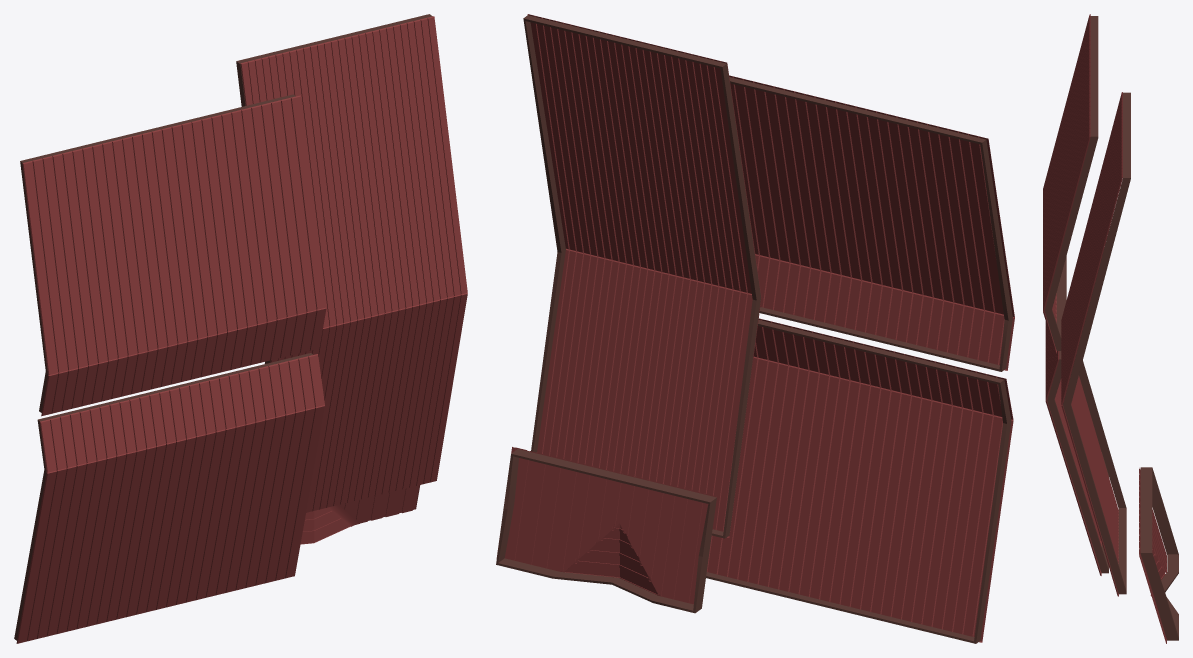
Rendered from roof.glb.
The picture shows the model from 3 angles, left to right: view 1: azimuth 30°, elevation 25°; view 2: azimuth 150°, elevation 25°; view 3: azimuth 270°, elevation 25°; orthographic projection. The views are drawn at different scales.
Parts seen in each view (by area): view 1: pCube112, pCube113, pCube111, polySurface32, polySurface33, polySurface40, polySurface36, polySurface30; view 2: pCube113, pCube111, pCube112, polySurface32, polySurface36, polySurface21, polySurface33, polySurface40, polySurface30, polySurface37; view 3: pCube113, pCube112, polySurface36, polySurface21, polySurface40, polySurface33, pCube111, polySurface32.
Boxes of the visible parts, x1,y1,x2,y2 form: pCube112: (22, 95, 326, 416); pCube113: (240, 16, 467, 512); pCube111: (16, 354, 324, 643); polySurface32: (340, 485, 420, 523); polySurface33: (14, 353, 313, 640); polySurface40: (20, 94, 295, 412); polySurface36: (236, 14, 432, 363); polySurface30: (313, 507, 350, 542); pCube113: (527, 14, 761, 537); pCube111: (707, 318, 1013, 642); pCube112: (729, 75, 1014, 370); polySurface32: (496, 447, 716, 604); polySurface36: (523, 15, 760, 538); polySurface21: (496, 449, 716, 613); polySurface33: (706, 320, 1011, 643); polySurface40: (729, 77, 1012, 371); polySurface30: (564, 527, 619, 577); polySurface37: (619, 528, 658, 594); pCube113: (1061, 92, 1122, 596); pCube112: (1043, 14, 1090, 353); polySurface36: (1063, 92, 1130, 594); polySurface21: (1140, 467, 1178, 640); polySurface40: (1044, 16, 1098, 350); polySurface33: (1047, 256, 1108, 573); pCube111: (1045, 321, 1101, 575); polySurface32: (1139, 468, 1166, 643).
Bounding box in the file's own units: 0.1211 × 0.1368 × 0.0362.
